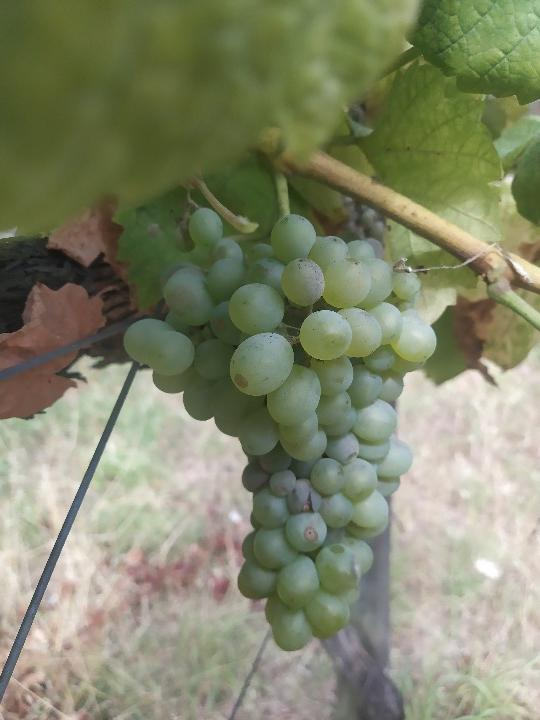grape: (122, 206, 437, 656)
